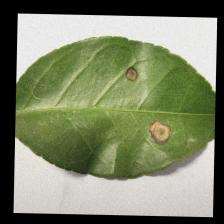canker: (120, 64, 176, 147)
